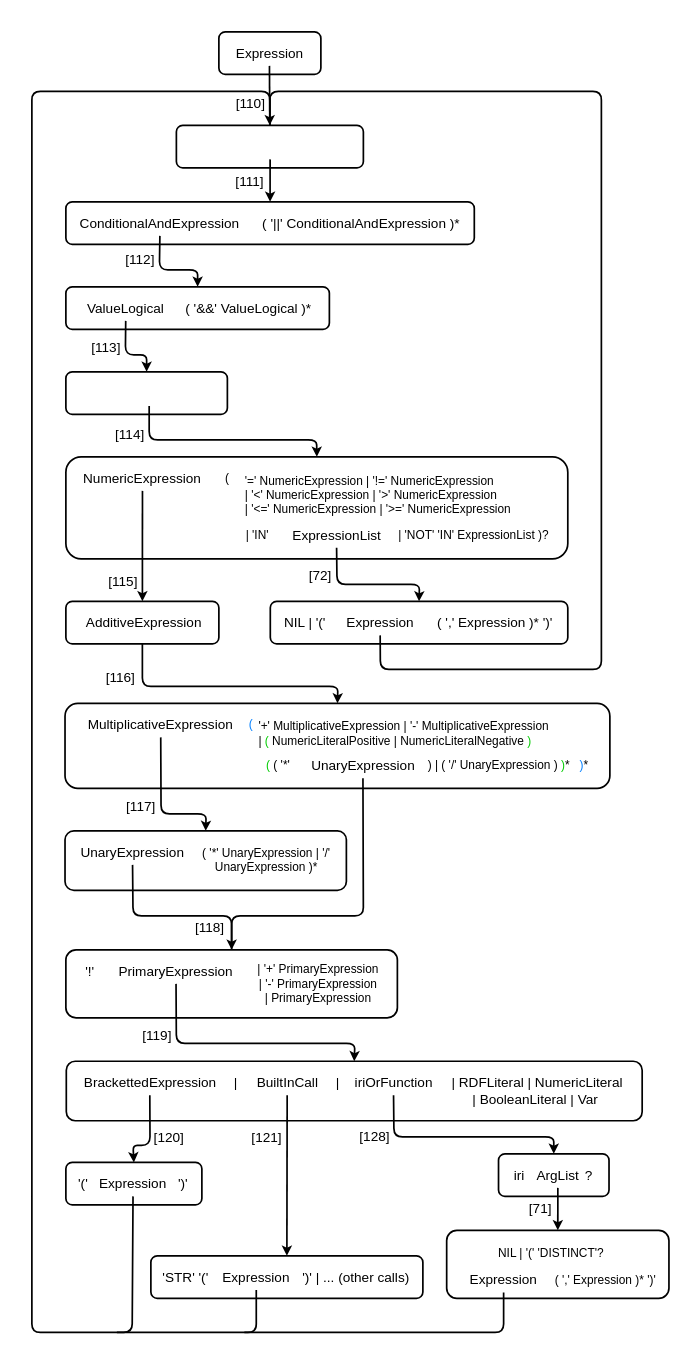
Image size: 689x1363. Some labels were removed from this diagram. Here are the shapes that lost their labels. From the top down, the box of each, then its label:
(175, 124, 364, 168): ConditionalOrExpression
(65, 371, 228, 415): RelationalExpression
